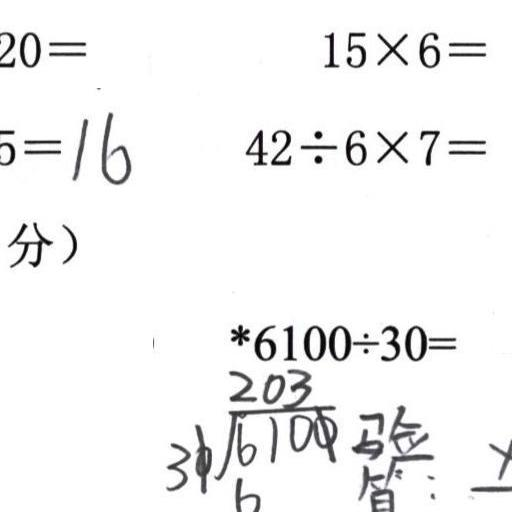ans: (65, 106, 131, 185)
